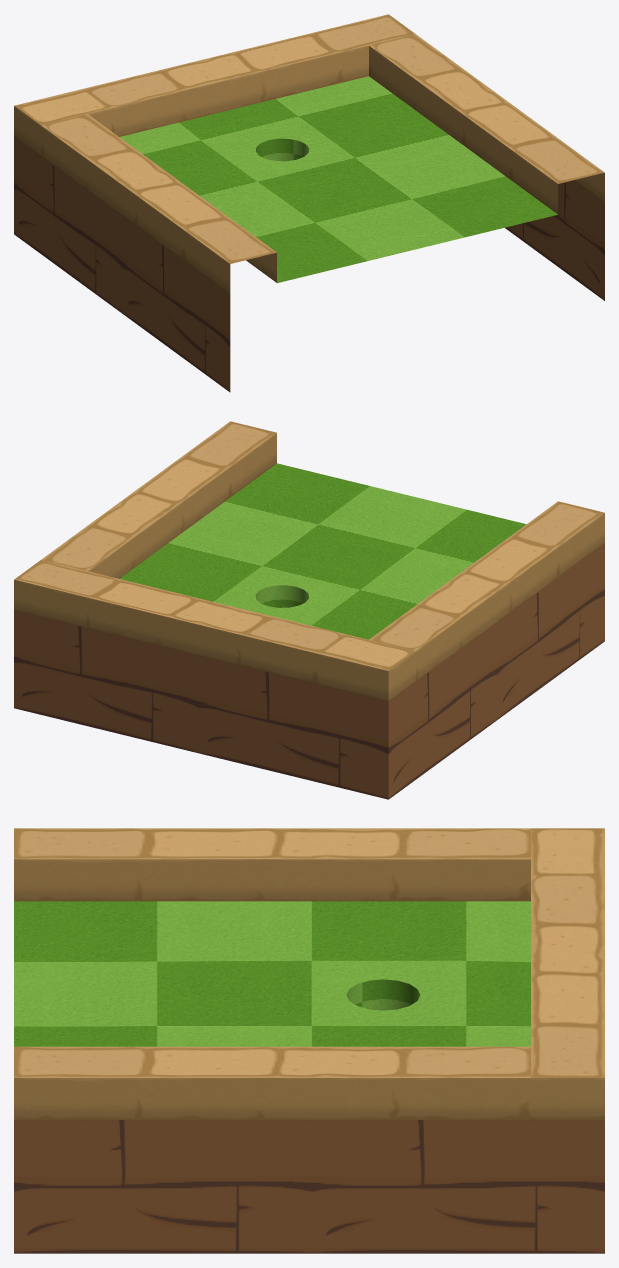
Rendered from tile25.FBX.
3 views of the same model, one above another, from view 1: azimuth 30°, elevation 25°; view 2: azimuth 150°, elevation 25°; view 3: azimuth 270°, elevation 25° (orthographic). The views are drawn at different scales.
Visible parts, largest first — view 1: tile25_walls, tile25_floor, tile25_hole; view 2: tile25_walls, tile25_floor, tile25_hole; view 3: tile25_walls, tile25_floor, tile25_hole.
Boxes of the visible parts, bbox=[...] form: tile25_walls: bbox=[14, 14, 604, 392]; tile25_floor: bbox=[119, 76, 557, 283]; tile25_hole: bbox=[255, 138, 309, 161]; tile25_walls: bbox=[14, 421, 604, 799]; tile25_floor: bbox=[119, 463, 526, 639]; tile25_hole: bbox=[255, 585, 308, 607]; tile25_walls: bbox=[14, 828, 604, 1253]; tile25_floor: bbox=[14, 901, 530, 1046]; tile25_hole: bbox=[346, 979, 419, 1010].
Bounding box in the file's own units: 1280 × 420 × 1280.
